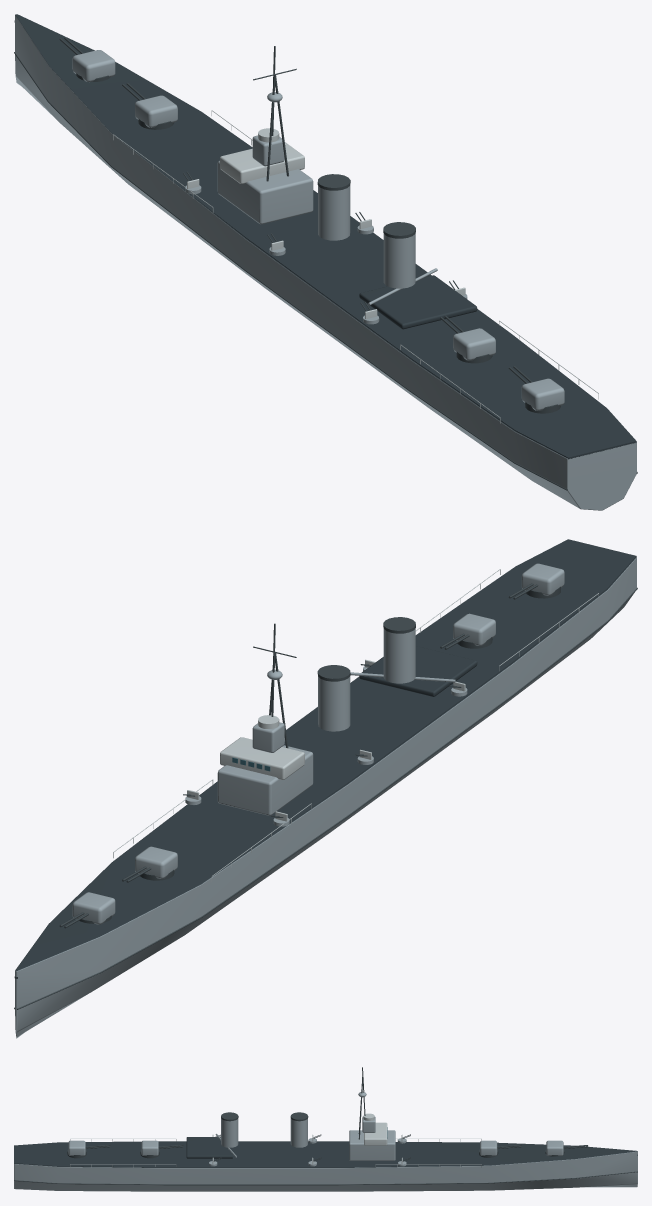
The model's file is generic-ww2-cruiser.glb.
3 renders of one model, top to bottom at view 1: azimuth 30°, elevation 25°; view 2: azimuth 150°, elevation 25°; view 3: azimuth 270°, elevation 25°, orthographic. The views are drawn at different scales.
Visible parts, largest first — view 1: ww2-cruiser_Hull, ww2-cruiser_MainDeck, ww2-cruiser_LowerBridge, ww2-cruiser_AircraftHandlingDeck, ww2-cruiser_Wheelhouse, ww2-cruiser_Funnel, ww2-cruiser_Funnel.001, ww2-cruiser_NavalGunTurret.003, ww2-cruiser_NavalGunTurret, ww2-cruiser_NavalGunTurret.001, ww2-cruiser_NavalGunTurret.002, ww2-cruiser_DirectorTower; view 2: ww2-cruiser_Hull, ww2-cruiser_MainDeck, ww2-cruiser_LowerBridge, ww2-cruiser_AircraftHandlingDeck, ww2-cruiser_Wheelhouse, ww2-cruiser_Funnel, ww2-cruiser_Funnel.001, ww2-cruiser_NavalGunTurret, ww2-cruiser_NavalGunTurret.003, ww2-cruiser_NavalGunTurret.001, ww2-cruiser_NavalGunTurret.002, ww2-cruiser_DirectorTower; view 3: ww2-cruiser_Hull, ww2-cruiser_MainDeck, ww2-cruiser_LowerBridge, ww2-cruiser_AircraftHandlingDeck, ww2-cruiser_Funnel, ww2-cruiser_Funnel.001, ww2-cruiser_Wheelhouse, ww2-cruiser_Waterline.008, ww2-cruiser_NavalGunTurret.001, ww2-cruiser_NavalGunTurret.002, ww2-cruiser_NavalGunTurret.003, ww2-cruiser_NavalGunTurret.
Part boxes in pixels (x1,y1,x2,y2): ww2-cruiser_Hull: [15, 14, 636, 510]; ww2-cruiser_MainDeck: [14, 20, 636, 459]; ww2-cruiser_LowerBridge: [217, 160, 313, 224]; ww2-cruiser_AircraftHandlingDeck: [359, 275, 477, 329]; ww2-cruiser_Wheelhouse: [220, 142, 304, 183]; ww2-cruiser_Funnel: [318, 185, 350, 240]; ww2-cruiser_Funnel.001: [383, 233, 415, 288]; ww2-cruiser_NavalGunTurret.003: [521, 378, 564, 410]; ww2-cruiser_NavalGunTurret: [72, 50, 115, 82]; ww2-cruiser_NavalGunTurret.001: [135, 95, 177, 127]; ww2-cruiser_NavalGunTurret.002: [453, 328, 495, 360]; ww2-cruiser_DirectorTower: [252, 135, 284, 166]; ww2-cruiser_Hull: [15, 557, 636, 1038]; ww2-cruiser_MainDeck: [14, 539, 636, 978]; ww2-cruiser_LowerBridge: [217, 745, 313, 815]; ww2-cruiser_AircraftHandlingDeck: [359, 646, 477, 696]; ww2-cruiser_Wheelhouse: [220, 737, 304, 779]; ww2-cruiser_Funnel: [318, 676, 350, 731]; ww2-cruiser_Funnel.001: [383, 628, 415, 683]; ww2-cruiser_NavalGunTurret: [72, 892, 115, 924]; ww2-cruiser_NavalGunTurret.003: [521, 563, 564, 595]; ww2-cruiser_NavalGunTurret.001: [135, 846, 177, 878]; ww2-cruiser_NavalGunTurret.002: [453, 613, 495, 645]; ww2-cruiser_DirectorTower: [252, 722, 284, 752]; ww2-cruiser_Hull: [14, 1142, 637, 1191]; ww2-cruiser_MainDeck: [14, 1141, 637, 1167]; ww2-cruiser_LowerBridge: [349, 1130, 395, 1160]; ww2-cruiser_AircraftHandlingDeck: [186, 1137, 232, 1158]; ww2-cruiser_Funnel: [290, 1118, 307, 1147]; ww2-cruiser_Funnel.001: [221, 1118, 238, 1147]; ww2-cruiser_Wheelhouse: [364, 1122, 387, 1145]; ww2-cruiser_Waterline.008: [163, 1184, 338, 1185]; ww2-cruiser_NavalGunTurret.001: [480, 1140, 497, 1155]; ww2-cruiser_NavalGunTurret.002: [141, 1140, 158, 1155]; ww2-cruiser_NavalGunTurret.003: [68, 1140, 85, 1155]; ww2-cruiser_NavalGunTurret: [546, 1140, 563, 1155].
Size of the model in its own units: 19.24 by 39.91 by 188.
